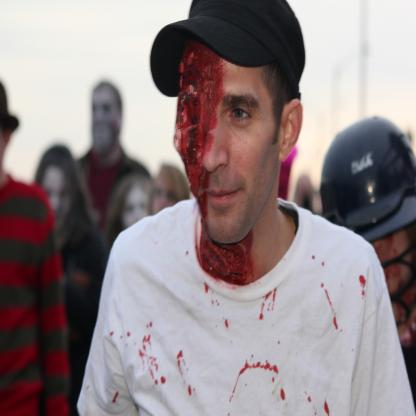Helmet: (314, 114, 411, 247)
